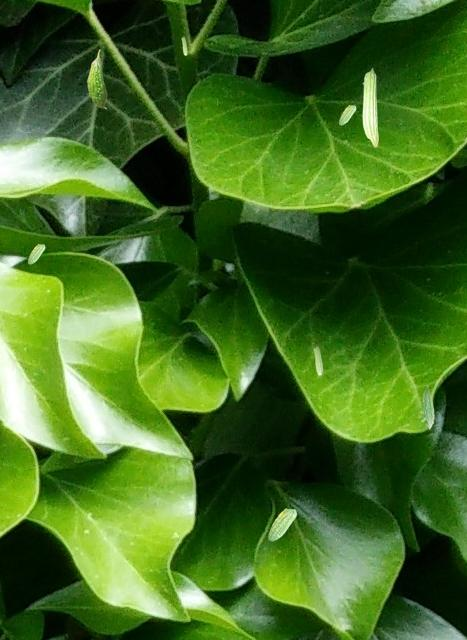ampalaya: (362, 67, 378, 147), (86, 49, 107, 109), (268, 508, 297, 541), (422, 385, 434, 430), (27, 243, 45, 264), (338, 104, 356, 125), (313, 345, 323, 375), (181, 36, 188, 55)
